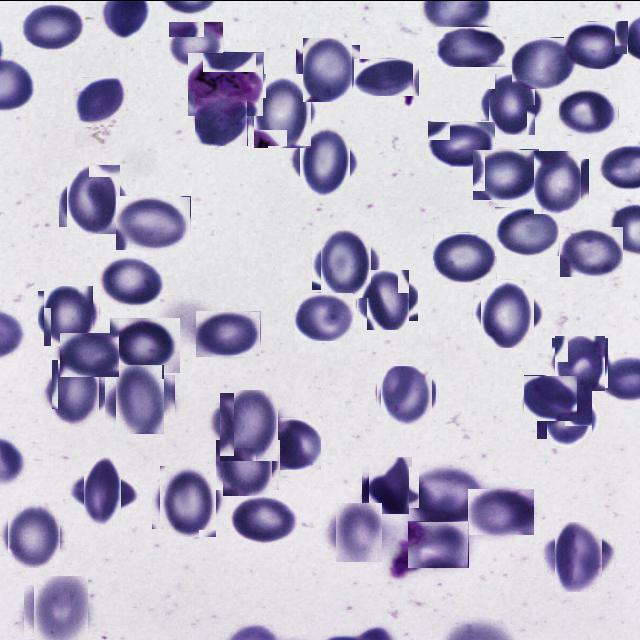difficult: (188, 51, 264, 115)
red blood cell: (409, 466, 483, 526), (250, 77, 316, 143), (216, 392, 282, 456), (156, 468, 220, 532), (116, 195, 191, 249), (29, 579, 93, 640), (110, 317, 180, 372), (62, 168, 124, 230), (294, 130, 356, 192), (476, 282, 538, 344), (316, 234, 376, 294), (110, 368, 170, 428), (5, 505, 64, 564), (550, 526, 608, 586), (473, 148, 539, 199), (512, 36, 576, 88), (98, 257, 163, 308), (47, 364, 104, 422), (230, 496, 301, 542), (560, 225, 624, 276), (299, 41, 356, 98), (433, 232, 497, 282), (378, 367, 434, 423), (495, 206, 559, 255), (530, 154, 586, 210), (220, 436, 276, 492), (428, 120, 496, 166), (564, 20, 628, 68), (468, 488, 534, 534), (41, 287, 96, 342), (21, 4, 84, 52), (196, 310, 261, 356), (485, 76, 539, 130), (76, 464, 130, 518), (542, 388, 596, 442), (295, 291, 354, 340), (559, 87, 619, 135), (408, 520, 469, 567), (436, 26, 507, 66), (332, 505, 386, 557), (554, 336, 606, 388), (362, 273, 413, 325), (270, 417, 320, 469), (73, 77, 126, 126), (195, 96, 248, 145), (60, 332, 119, 376), (169, 20, 224, 66), (366, 460, 416, 510), (524, 374, 578, 420), (354, 57, 419, 95)
